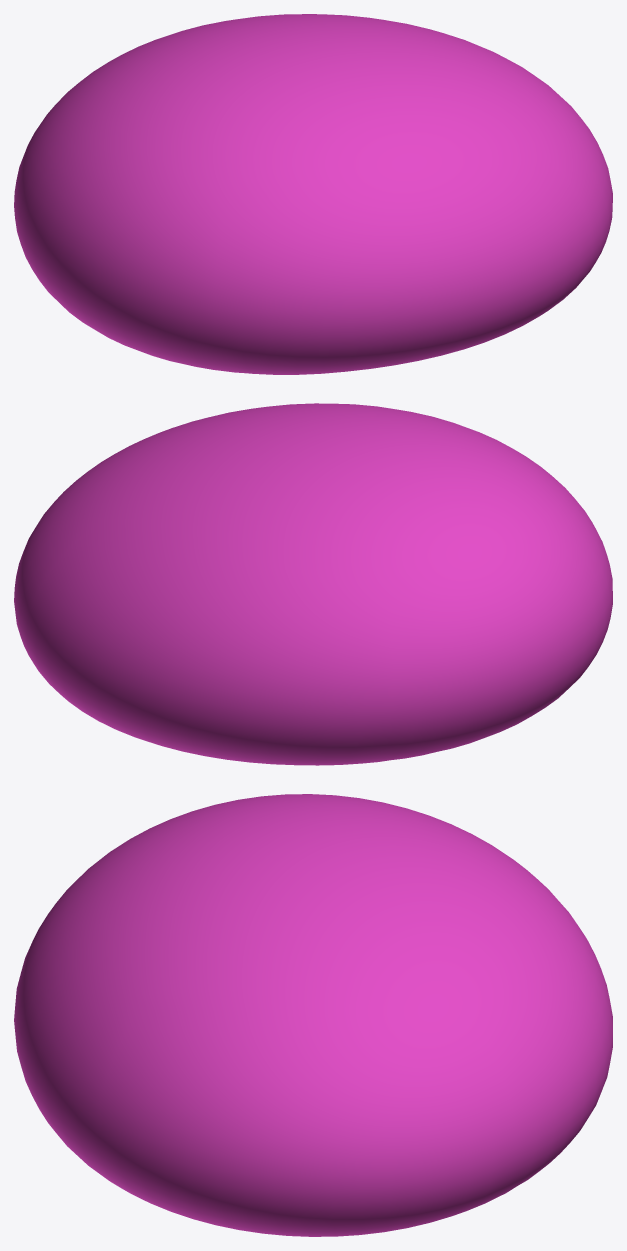
File: stone_1.fbx
3 views of the same model, one above another, from view 1: azimuth 30°, elevation 25°; view 2: azimuth 150°, elevation 25°; view 3: azimuth 270°, elevation 25° (orthographic). The views are drawn at different scales.
Visible parts, largest first — view 1: stone_1; view 2: stone_1; view 3: stone_1.
Boxes of the visible parts, x1,y1,x2,y2 form: stone_1: [14, 14, 612, 374]; stone_1: [14, 403, 612, 765]; stone_1: [14, 794, 612, 1236].
Bounding box in the file's own units: 46.57 × 22.26 × 41.97.
